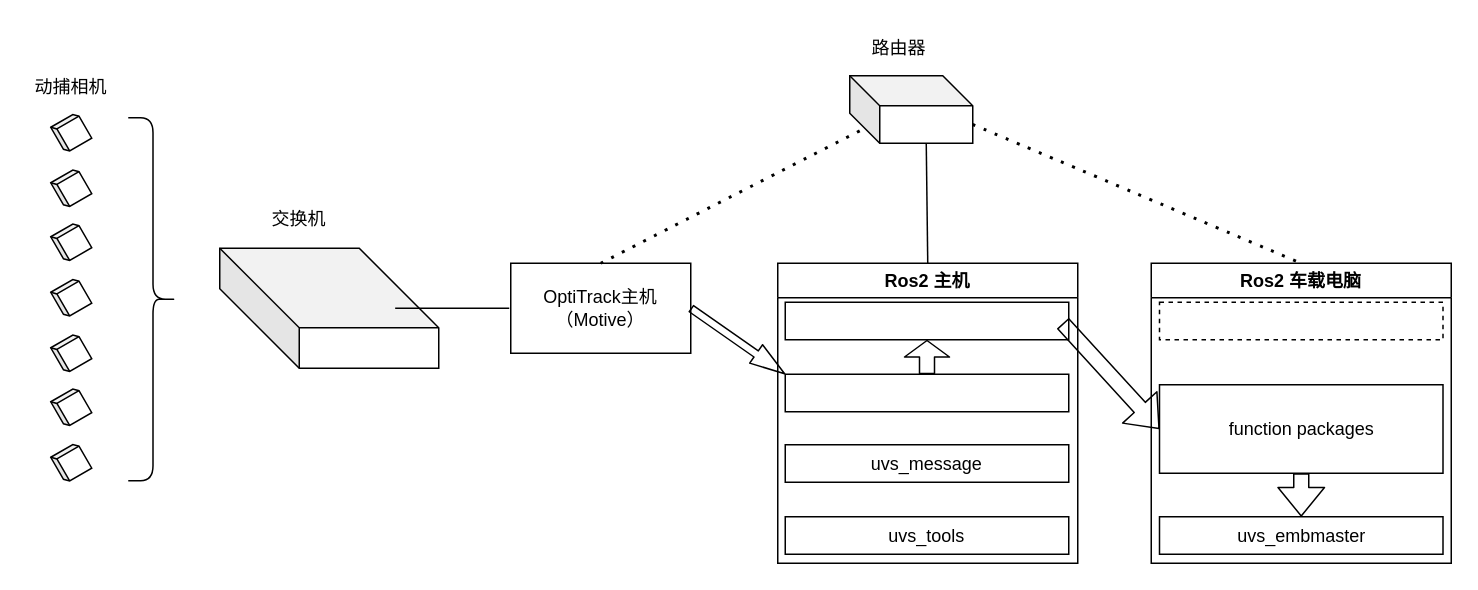
This 1478x590 diagram has some shape labels left out. The shapes that lost their labels are listed below. From the top down, each one's box as (x1, y1, x2, y2) in pixels, then its label:
(784, 301, 1069, 340): uvs_mapserver
(1158, 301, 1443, 340): uvs_manual
(784, 373, 1069, 412): uvs_optitrack
